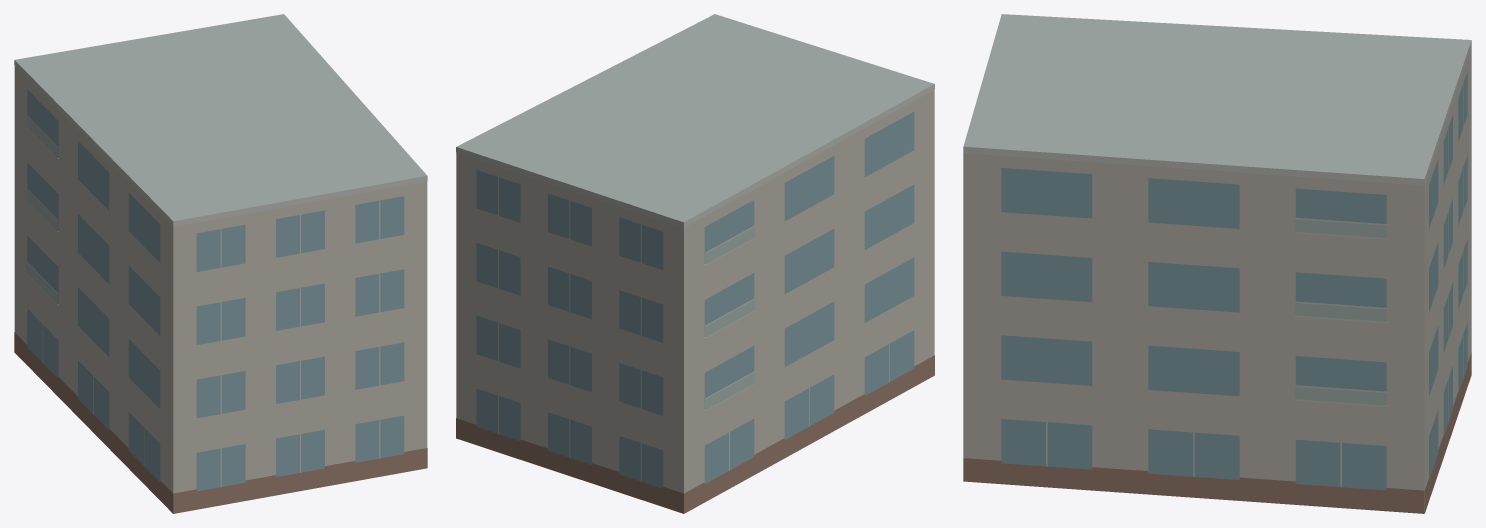
Rendered from survey-upis-32511643.glb.
3 views of the same model, side by side, from view 1: azimuth 30°, elevation 25°; view 2: azimuth 150°, elevation 25°; view 3: azimuth 270°, elevation 25° (orthographic). The views are drawn at different scales.
Visible parts, largest first — view 1: survey-upis-32511643.tmp; view 2: survey-upis-32511643.tmp; view 3: survey-upis-32511643.tmp.
Part boxes in pixels (x1=…): survey-upis-32511643.tmp: x1=14, y1=14, x2=427, y2=513; survey-upis-32511643.tmp: x1=456, y1=14, x2=934, y2=513; survey-upis-32511643.tmp: x1=963, y1=14, x2=1471, y2=513.
Size of the model in its own units: 13.65 by 12.9 by 17.76.
